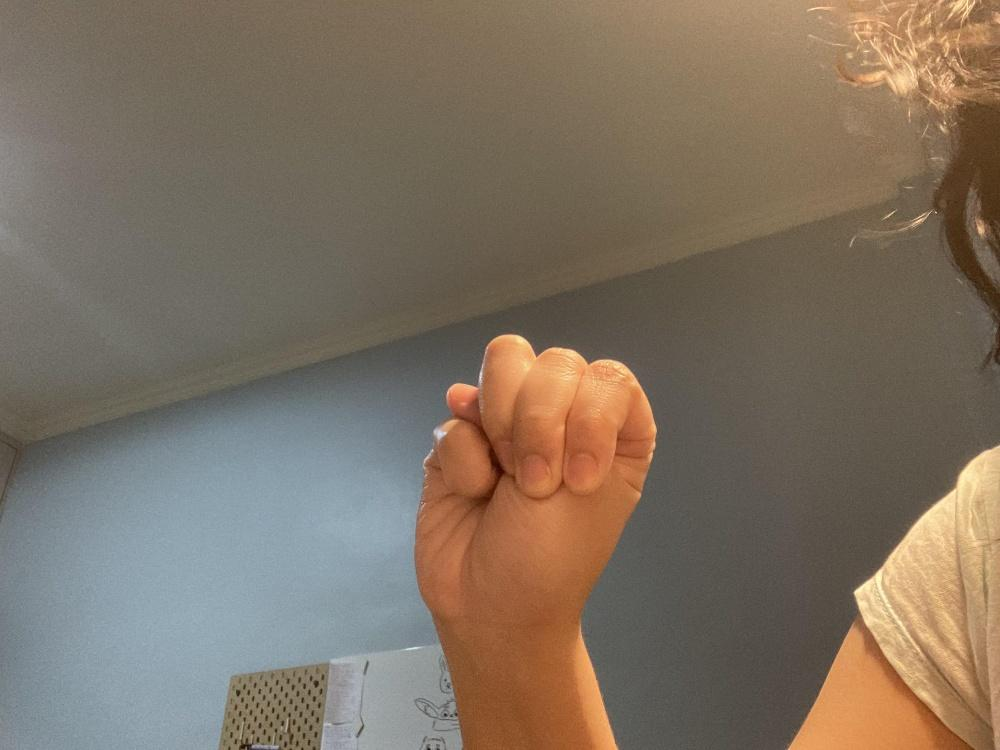m: (413, 332, 656, 619)
